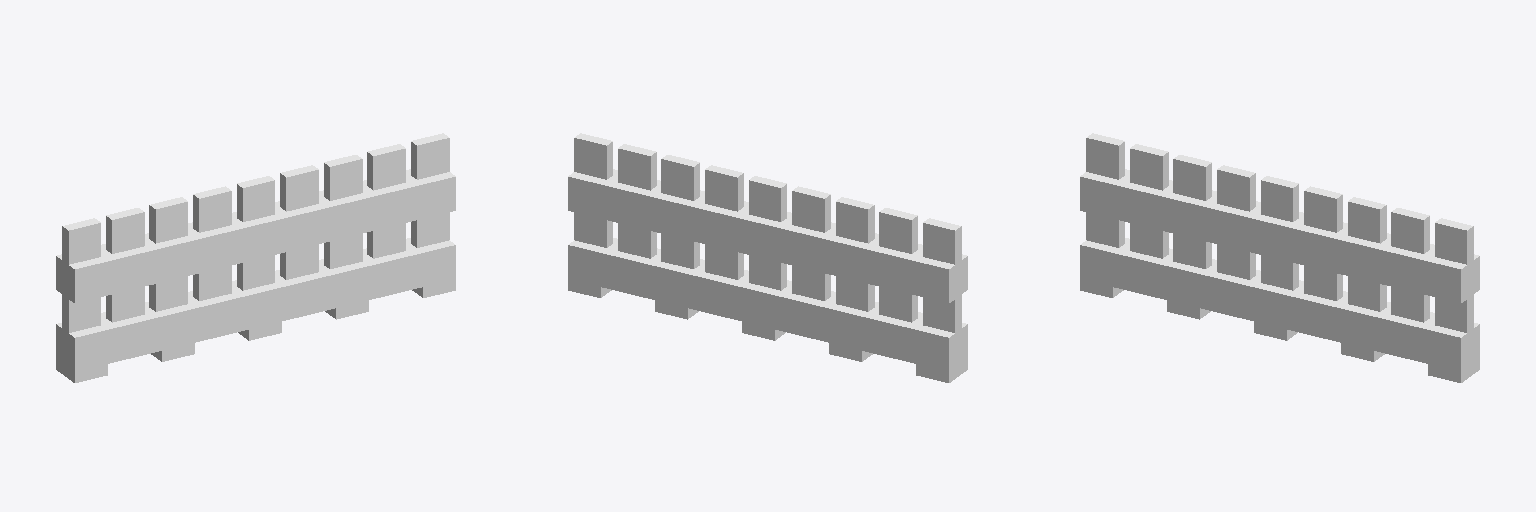
File: greengate.obj
3 renders of one model, left to right at view 1: azimuth 30°, elevation 25°; view 2: azimuth 150°, elevation 25°; view 3: azimuth 330°, elevation 25°, orthographic.
Parts seen in each view (by area): view 1: object 1; view 2: object 1; view 3: object 1.
Boxes of the visible parts, <box> form: object 1: <box>56,133,455,382</box>; object 1: <box>568,133,967,382</box>; object 1: <box>1080,133,1479,382</box>.
Bounding box in the file's own units: 3.5 × 1.3 × 0.3.